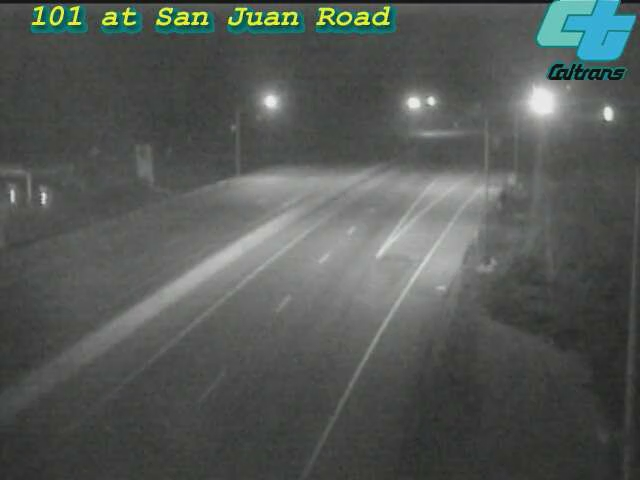vehicle: (582, 89, 632, 139), (517, 80, 567, 130)
